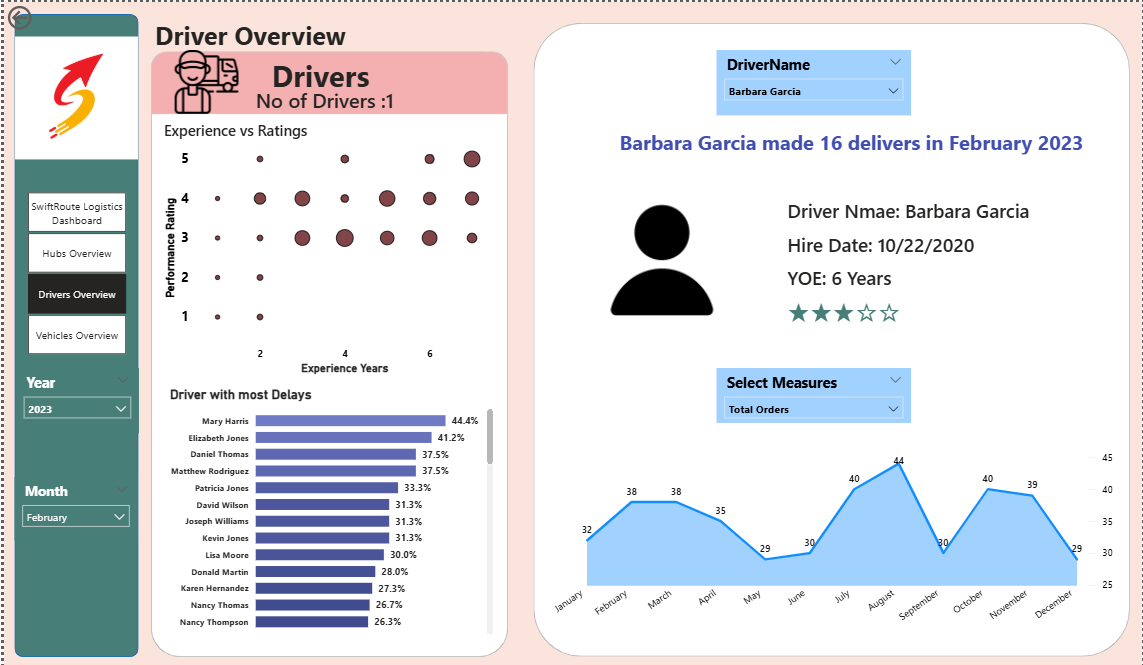

Layout of this report page (visuals, bound fields, positions):
{"tool":"powerbi","page":{"name":"Drivers Overview","canvas":[1450,850],"ordinal":2},"visuals":[{"type":"shape","box":[13.6,15.3,158.1,819.4],"z":0},{"type":"textbox","box":[186.7,15,505,56.7],"z":1000},{"type":"slicer","fields":{"Values":["Date Table.Year"]},"box":[15.3,465.8,156.4,83.3],"z":2000},{"type":"slicer","fields":{"Values":["Date Table.Month"]},"box":[13.6,606.9,156.4,79.9],"z":3000},{"type":"shape","box":[186.7,63.3,455,771.7],"z":4000},{"type":"shape","box":[186.7,63.3,455,80],"z":5000},{"type":"textbox","box":[261.7,63.3,283.3,60],"z":6000},{"type":"cardVisual","fields":{"Data":["Drivers.NO of Drivers"]},"box":[240,83.3,336.7,78.3],"z":7000},{"type":"scatterChart","title":"Experience vs Ratings","fields":{"X":["Drivers.Experience Years"],"Y":["Drivers.Performance Rating"],"Size":["Sum(Drivers.Experience Years)1"]},"box":[198.3,151.7,433.3,328.3],"z":8000},{"type":"barChart","title":"Driver with most Delays","fields":{"Category":["Orders.Driver Name"],"Y":["Orders.Delayed Delivery Rate"]},"box":[206.7,490,421.7,321.7],"z":9000},{"type":"image","box":[13.3,43.3,158.3,156.7],"z":10000},{"type":"shape","box":[674.9,27.2,759.9,807.5],"z":11000},{"type":"slicer","fields":{"Values":["Drivers.DriverName"]},"box":[907.8,61.2,248.2,83.3],"z":12000},{"type":"actionButton","box":[0,0,100,40],"z":13000},{"type":"cardVisual","fields":{"Data":["Drivers.Drivers Title"]},"box":[755,143.3,650,68.3],"z":14000},{"type":"cardVisual","fields":{"Data":["Drivers.Driver Name Title","Drivers.Hire Date Title","Drivers.YOE","Drivers.Star Rating"]},"box":[968.3,230,436.7,200],"z":15000},{"type":"image","box":[710,245,258.3,168.3],"z":16000},{"type":"areaChart","fields":{"Y2":["Orders.Total Orders"],"Category":["Date Table.Month"]},"box":[690.2,566.1,727.6,244.8],"z":17000},{"type":"slicer","fields":{"Values":["Select Measures.Select Measures"]},"box":[907.8,465.8,248.2,69.7],"z":18000},{"type":"pageNavigator","box":[30.6,243.1,125.8,209.1],"z":19000},{"type":"image","box":[198.9,61.2,119,81.6],"z":20000}]}

Visuals, with their boxes on the page's 1450x850 design canvas (x1, y1, x2, y2). These are canvas units, not pixel positions in the 1143x665 screenshot, which may show the page scaled, cropped or inside an application window:
shape: bbox(14, 15, 172, 835)
textbox: bbox(187, 15, 692, 72)
slicer - Date Table.Year: bbox(15, 466, 172, 549)
slicer - Date Table.Month: bbox(14, 607, 170, 687)
shape: bbox(187, 63, 642, 835)
shape: bbox(187, 63, 642, 143)
textbox: bbox(262, 63, 545, 123)
cardVisual - Drivers.NO of Drivers: bbox(240, 83, 577, 162)
"Experience vs Ratings" scatterChart: bbox(198, 152, 632, 480)
"Driver with most Delays" barChart: bbox(207, 490, 628, 812)
image: bbox(13, 43, 172, 200)
shape: bbox(675, 27, 1435, 835)
slicer - Drivers.DriverName: bbox(908, 61, 1156, 144)
actionButton: bbox(0, 0, 100, 40)
cardVisual - Drivers.Drivers Title: bbox(755, 143, 1405, 212)
cardVisual - Drivers.Driver Name Title x Drivers.Hire Date Title: bbox(968, 230, 1405, 430)
image: bbox(710, 245, 968, 413)
areaChart - Orders.Total Orders x Date Table.Month: bbox(690, 566, 1418, 811)
slicer - Select Measures.Select Measures: bbox(908, 466, 1156, 536)
pageNavigator: bbox(31, 243, 156, 452)
image: bbox(199, 61, 318, 143)
